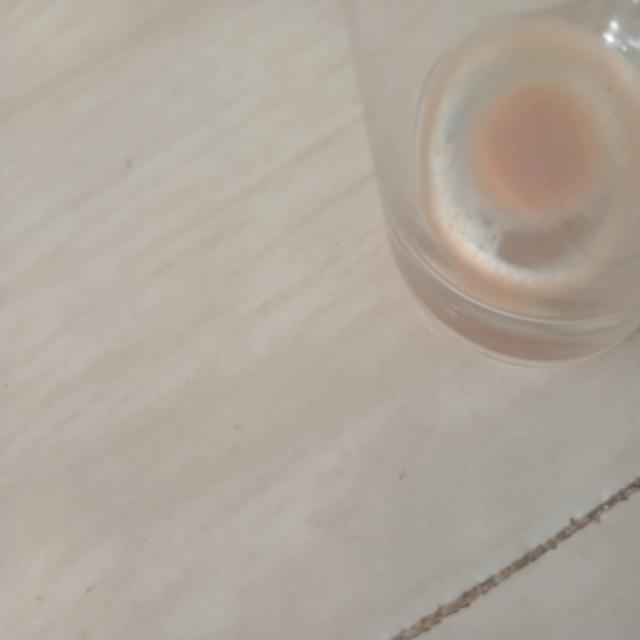glass-VX4N: (344, 0, 640, 370), (231, 274, 231, 275)
